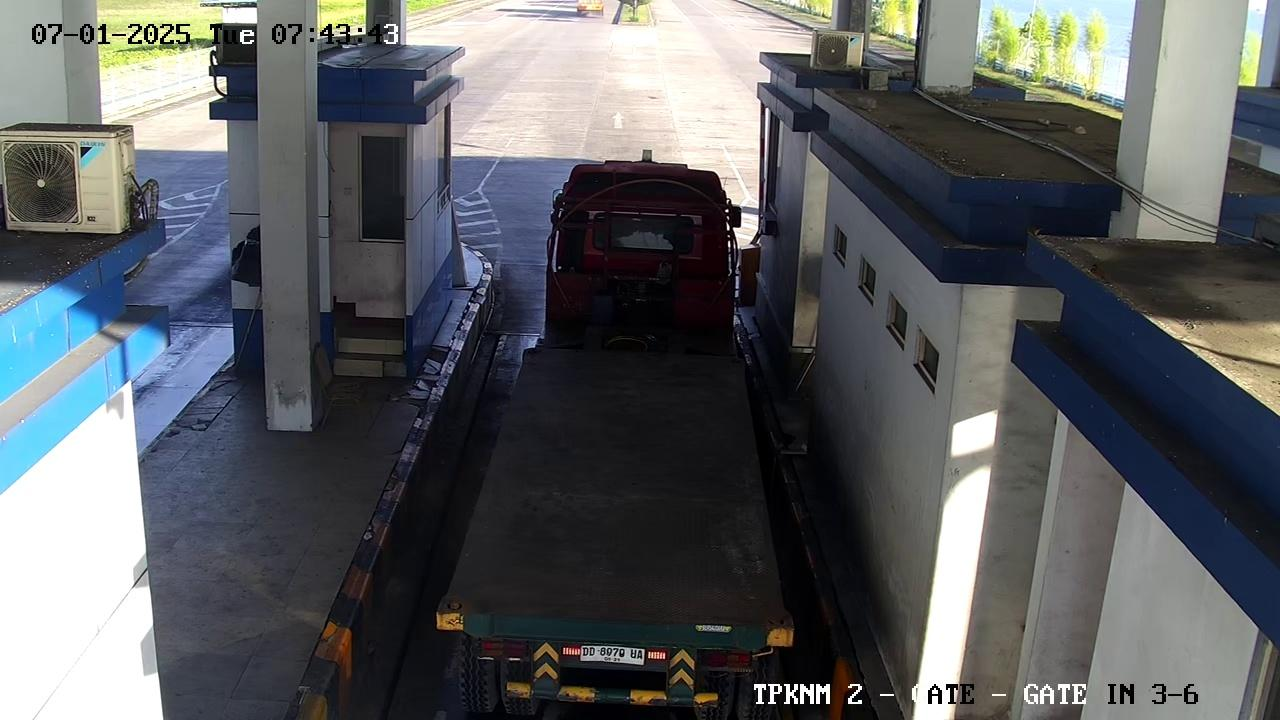plate_number: (553, 633, 679, 689)
